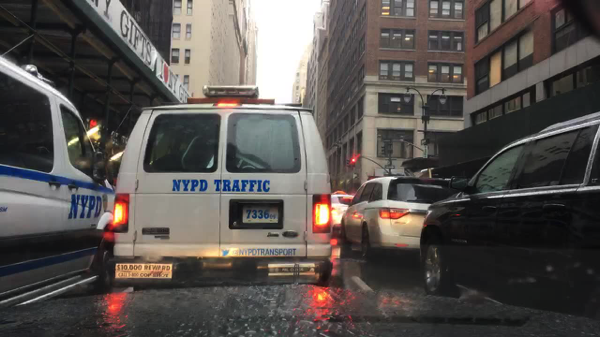car: (112, 85, 332, 293), (419, 112, 599, 322), (0, 56, 116, 308), (339, 176, 462, 262), (330, 190, 354, 238)
traffic light: (380, 144, 386, 155), (345, 158, 350, 169), (350, 158, 355, 168)
traffic sign: (419, 138, 426, 146), (382, 165, 394, 169)
